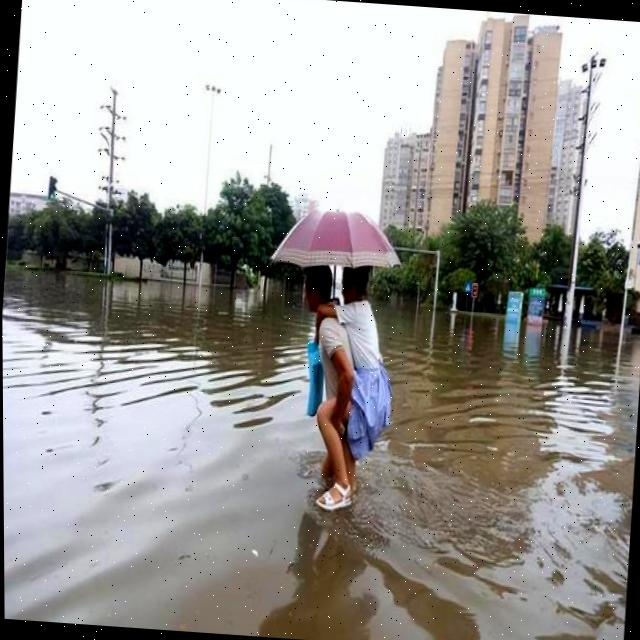civilian: (285, 253, 386, 504), (308, 255, 401, 521)
